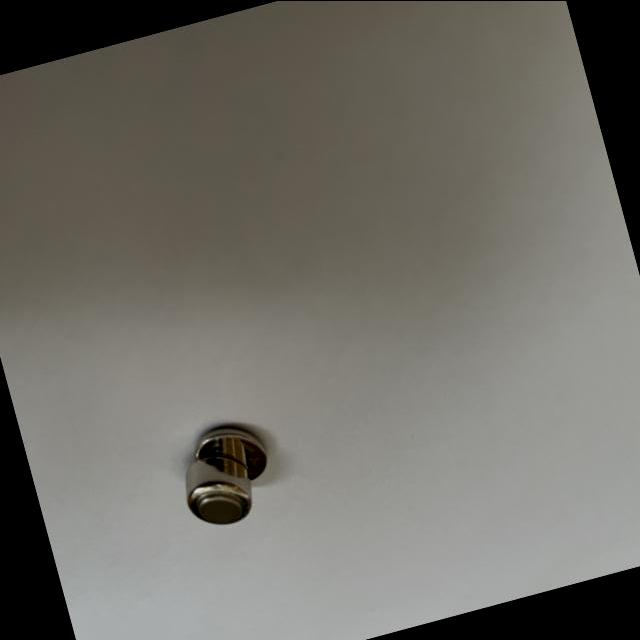COIN: (174, 446, 259, 534), (188, 416, 273, 494)
